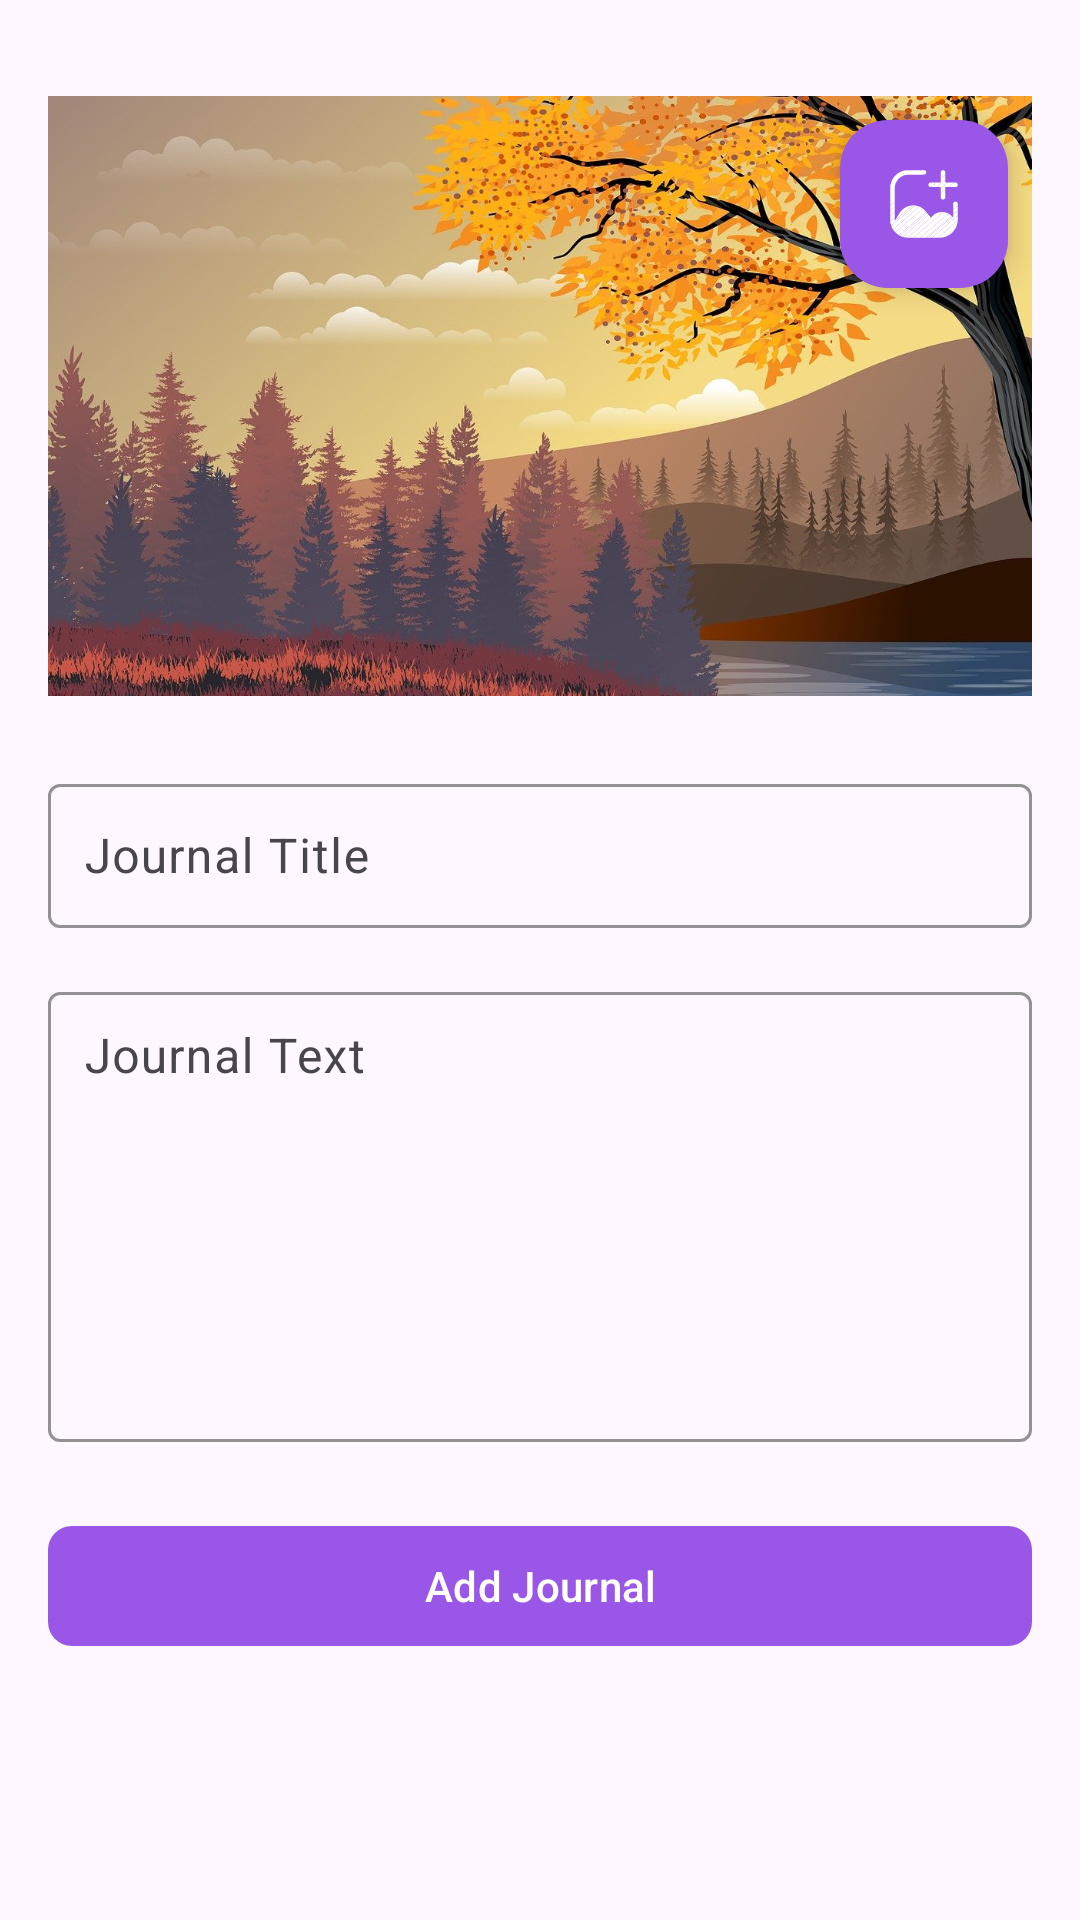

Where to tap for icons on this 1080x1920 app screen, as (x,y):
upload: (924,204)
